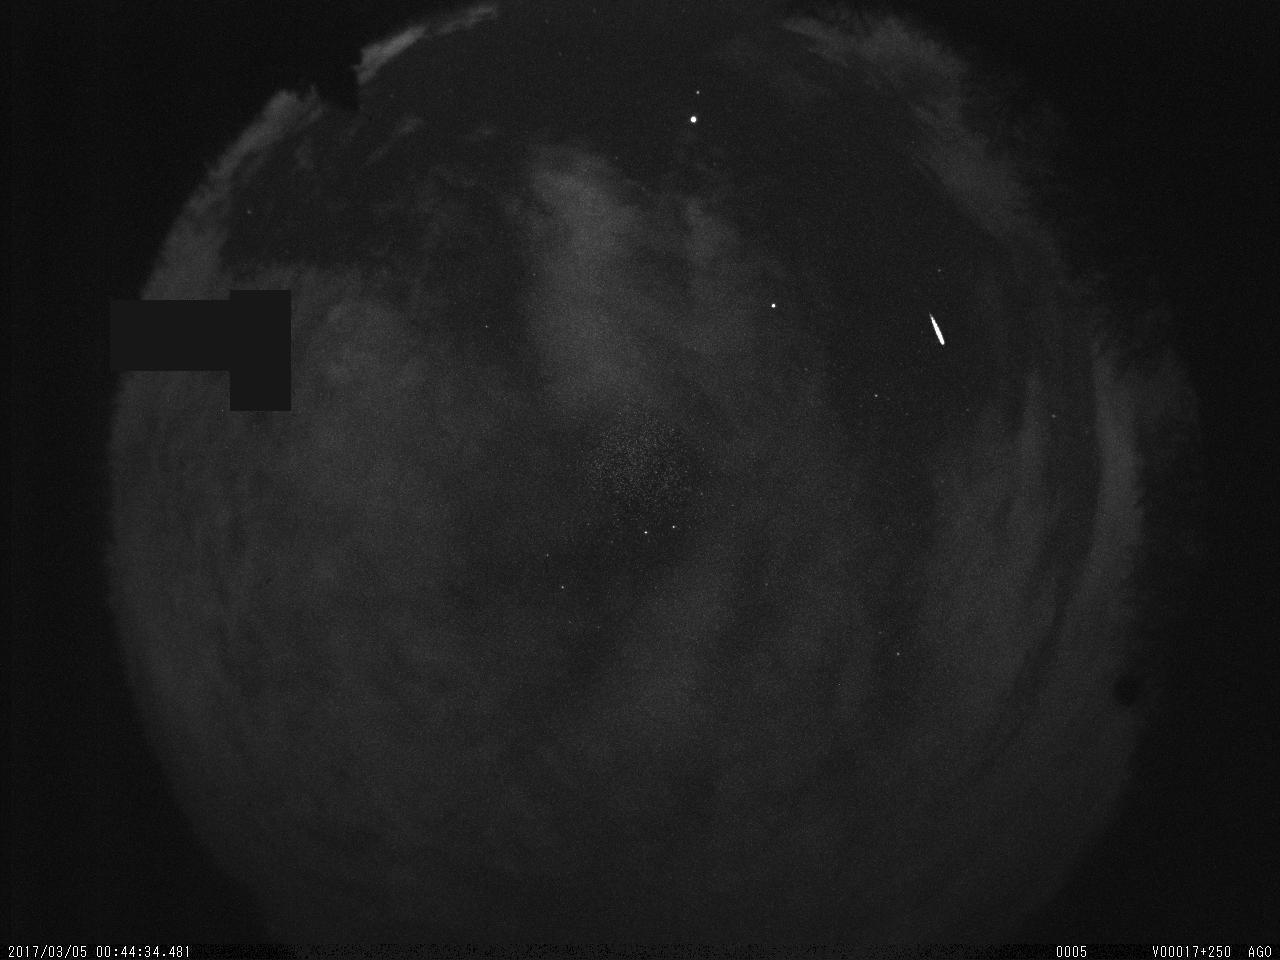Meteor: (928, 310, 946, 346)
